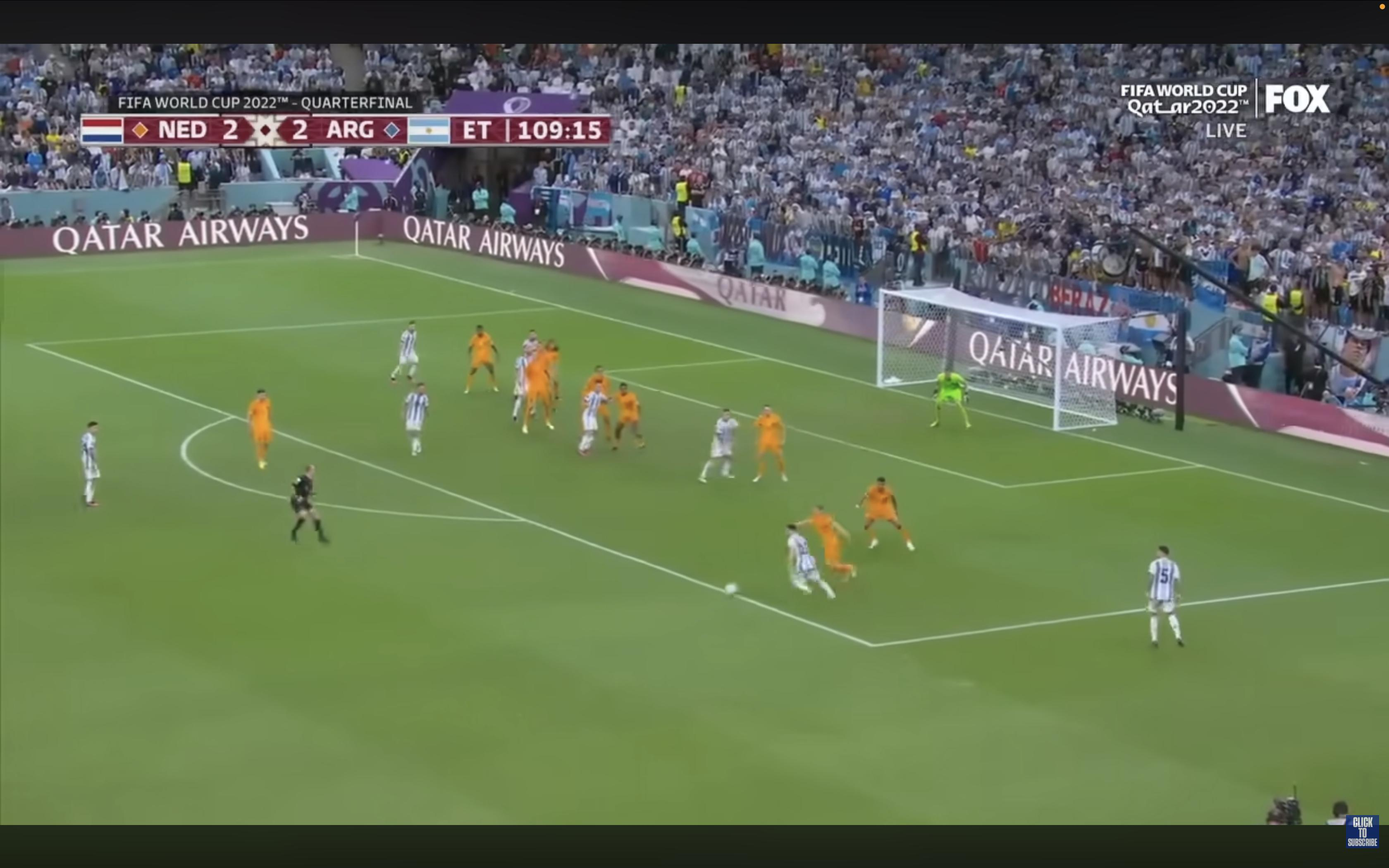ball: (724, 583, 737, 596), (578, 447, 590, 456)
goalkeeper: (931, 371, 971, 428)
player: (797, 506, 856, 578), (857, 477, 914, 551), (1148, 546, 1184, 647), (787, 525, 835, 599), (521, 340, 559, 433), (699, 409, 739, 482), (753, 405, 788, 482), (513, 330, 541, 422), (582, 367, 613, 443), (464, 325, 498, 393), (612, 383, 645, 450), (247, 389, 273, 470), (402, 382, 430, 455), (578, 388, 608, 456), (389, 321, 417, 384), (81, 421, 100, 507)
referee: (290, 465, 329, 544)
